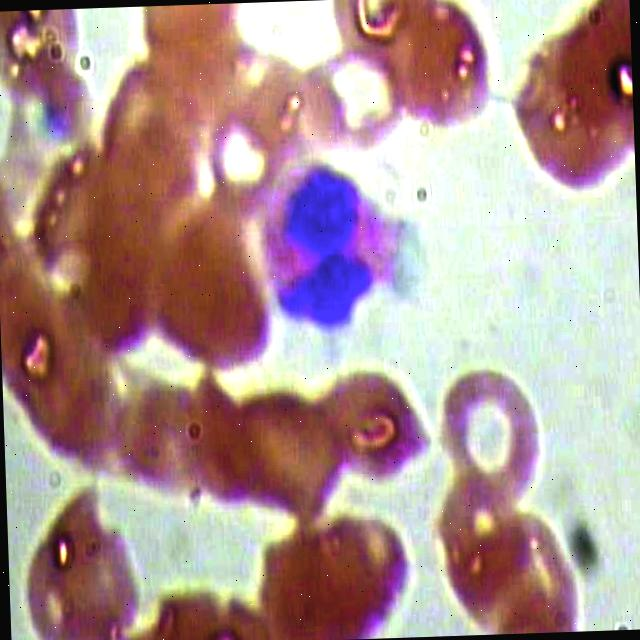RBC: (504, 29, 636, 198), (9, 479, 147, 640), (255, 507, 419, 640), (224, 374, 346, 532), (426, 478, 540, 636), (432, 367, 556, 507), (147, 244, 272, 382), (322, 361, 438, 497), (380, 4, 494, 140), (298, 48, 411, 166), (200, 101, 290, 224)
WBC: (256, 155, 410, 332)
